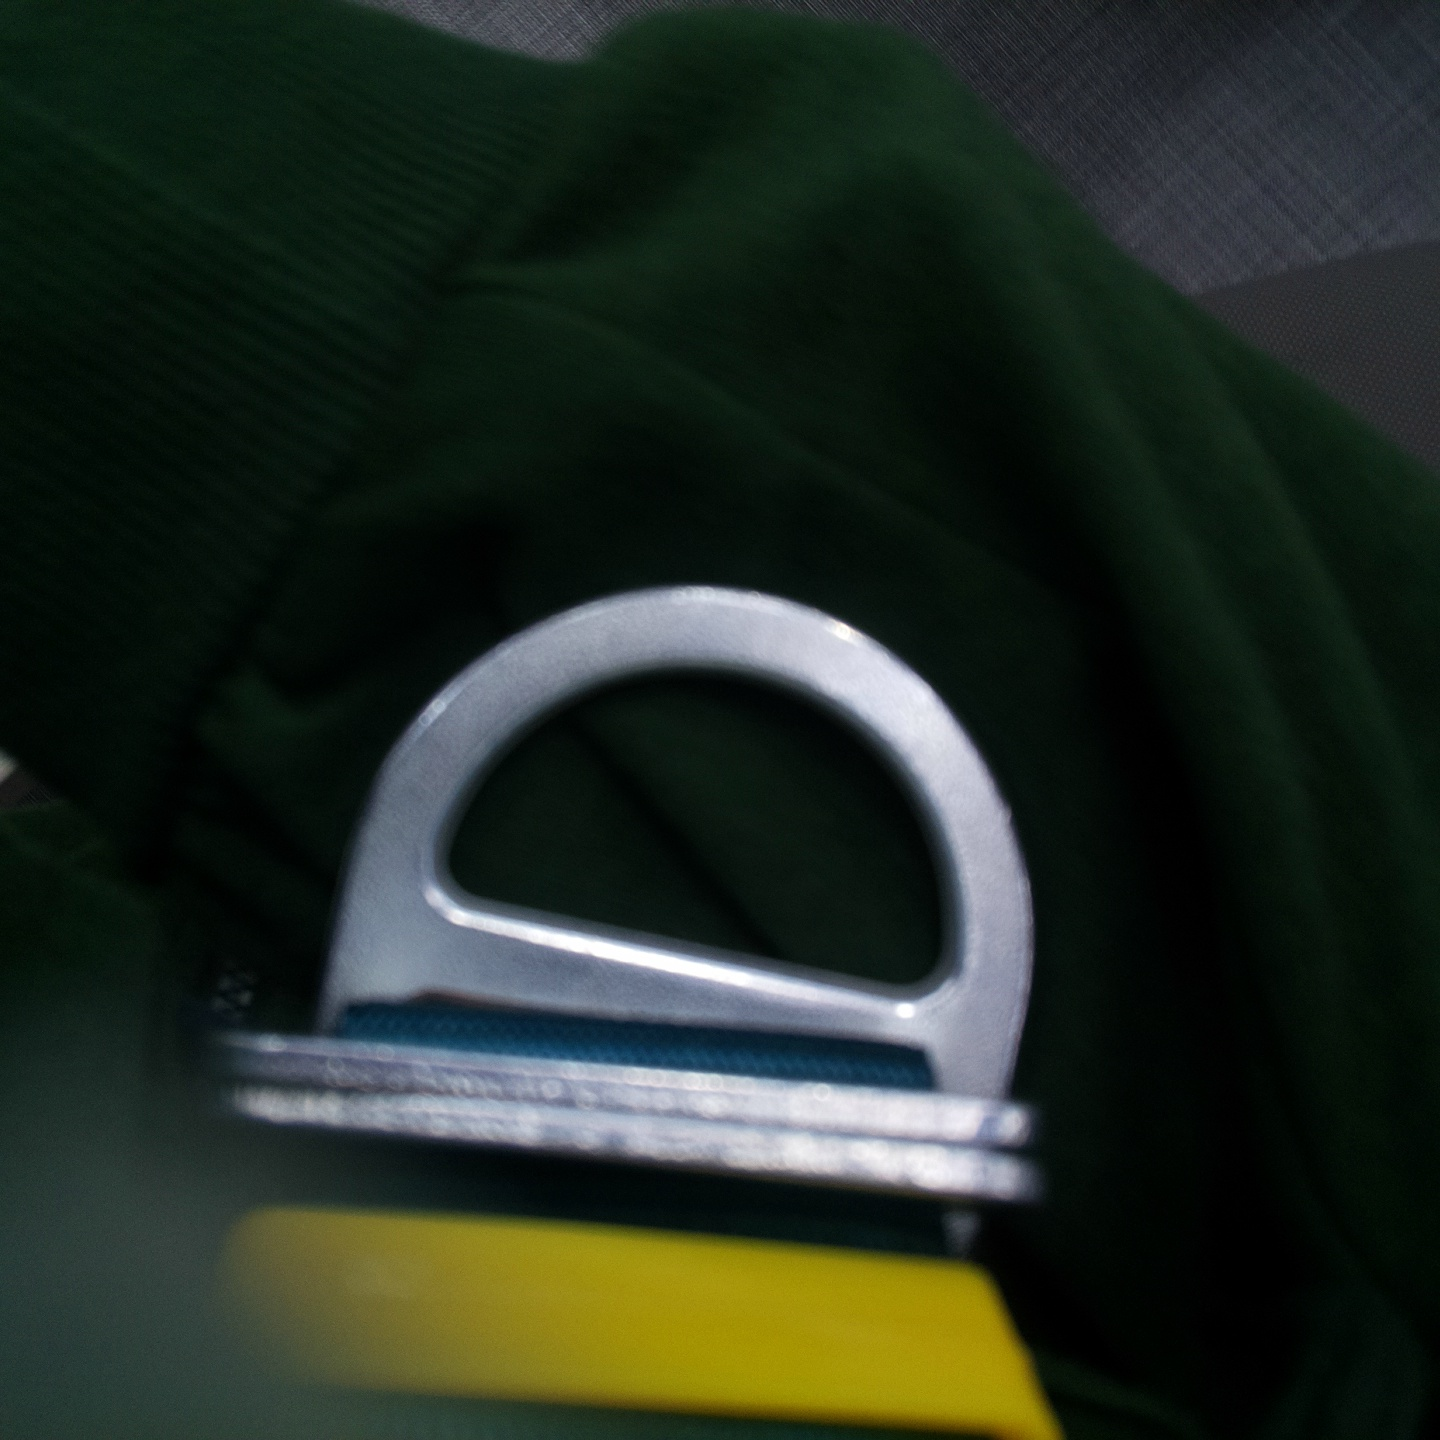UNSUCCESS: (334, 572, 1040, 1080)
